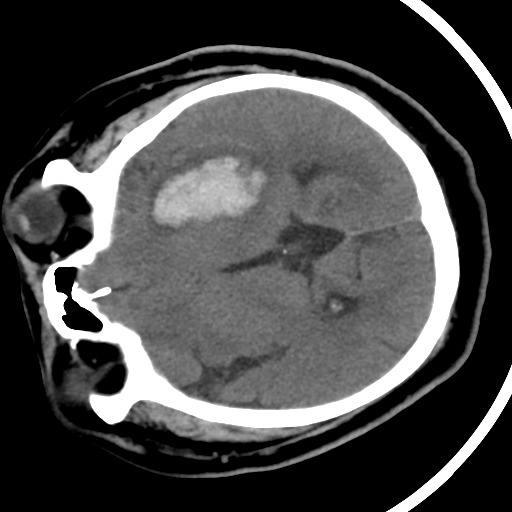a: (135, 131, 279, 241)
